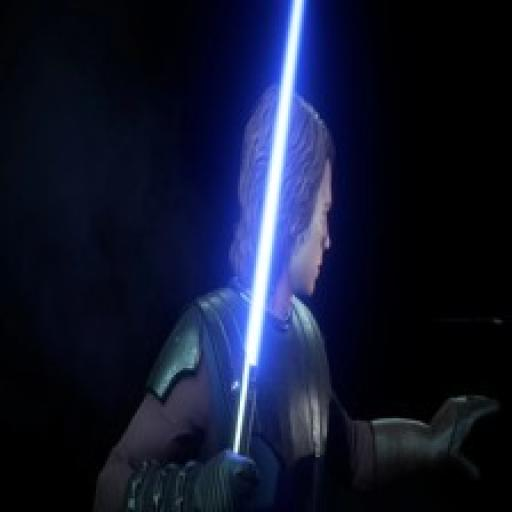lightsaber: (224, 0, 326, 451)
